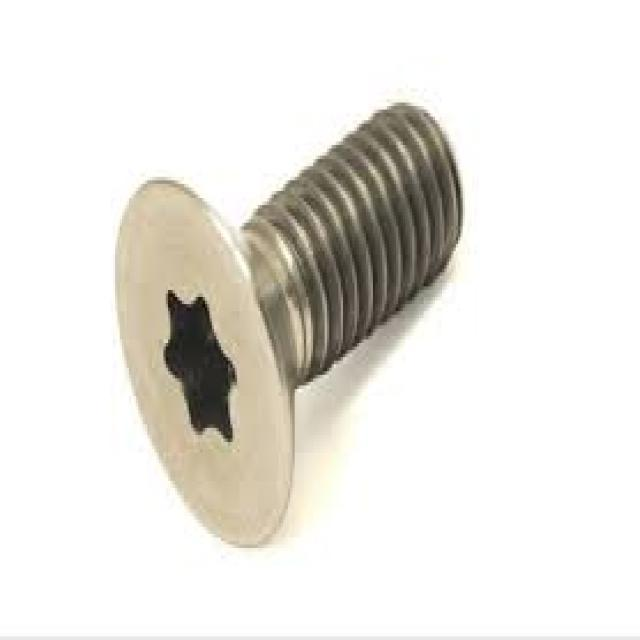torx: (113, 175, 294, 550)
